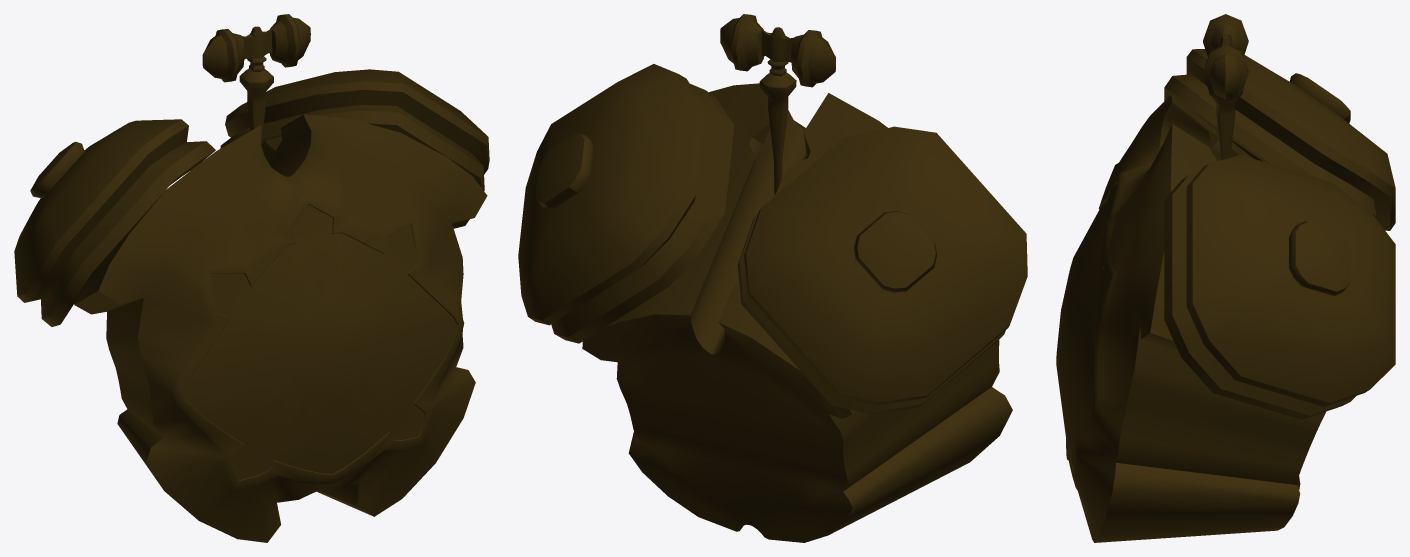
Rendered from rellotge.FBX.
The picture shows the model from 3 angles, left to right: view 1: azimuth 30°, elevation 25°; view 2: azimuth 150°, elevation 25°; view 3: azimuth 270°, elevation 25°; orthographic projection. The views are drawn at different scales.
Visible parts, largest first — view 1: rellotge, rellotge_tapa, rellotge_campana_d, rellotge_campana_e, rellotge_martellet; view 2: rellotge, rellotge_campana_d, rellotge_campana_e, rellotge_martellet; view 3: rellotge, rellotge_campana_e, rellotge_campana_d, rellotge_tapa, rellotge_martellet.
Boxes of the visible parts, box(x1,y1,x2,y2) form: rellotge: box(74, 114, 487, 542); rellotge_tapa: box(181, 204, 457, 479); rellotge_campana_d: box(14, 119, 215, 326); rellotge_campana_e: box(220, 69, 489, 228); rellotge_martellet: box(202, 14, 310, 144); rellotge: box(582, 83, 1012, 542); rellotge_campana_d: box(737, 126, 1027, 414); rellotge_campana_e: box(518, 64, 734, 343); rellotge_martellet: box(720, 14, 835, 195); rellotge: box(1066, 94, 1325, 542); rellotge_campana_e: box(1164, 155, 1395, 419); rellotge_campana_d: box(1164, 49, 1395, 230); rellotge_tapa: box(1056, 183, 1117, 472); rellotge_martellet: box(1203, 14, 1248, 159).
Bounding box in the file's own units: 104 × 102 × 65.19.
